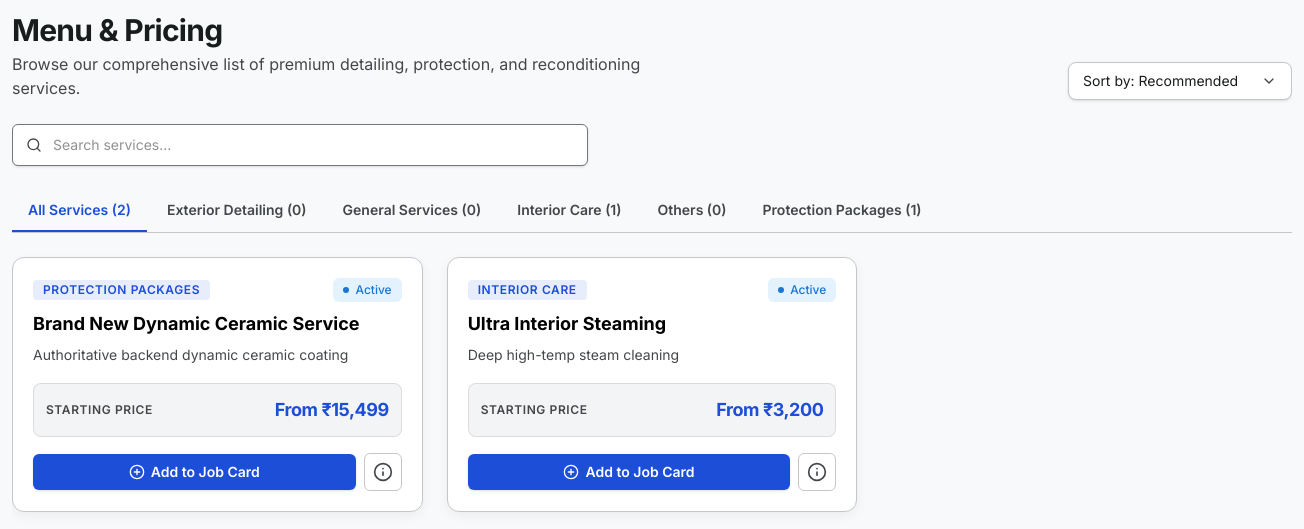
it: CataloguePage Dynamic Service & Category Tests (Step 6 Verification) › 4. Backend service category is respected and filters appropriately
This screenshot has width=1304, height=529.
Expected: the heading "Brand New Dynamic Ceramic Service" is shown, [33,310,402,338]
Expected: the heading "Ultra Interior Steaming" is shown, [468,313,666,334]
Filter by 'Interior Care'
Click the button "Interior Care (1)" at (569, 211), box [501,190,638,232]
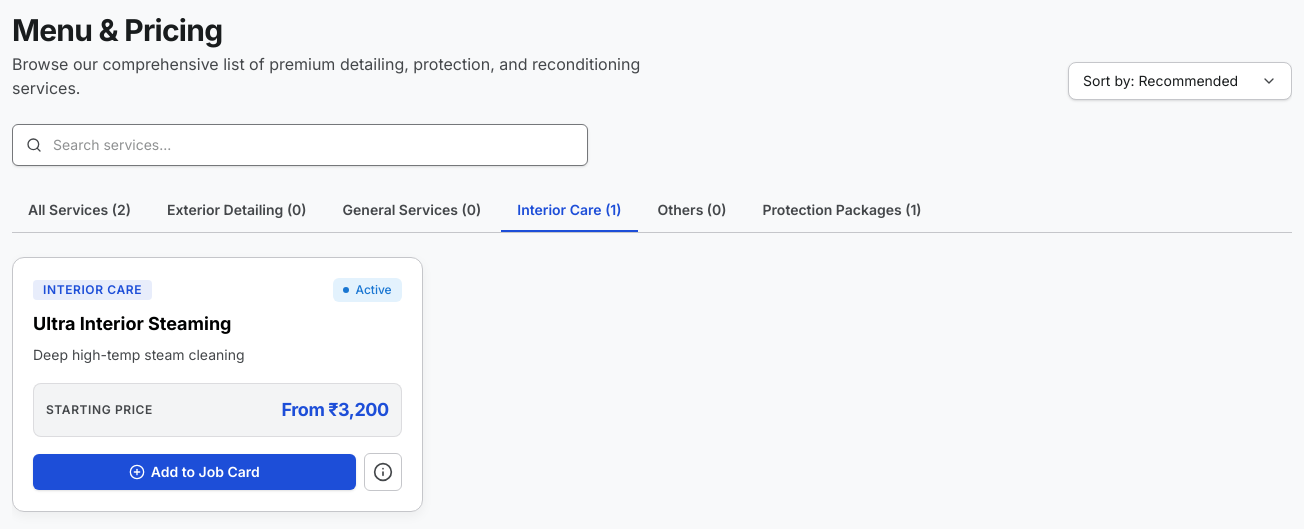
Expected: the heading "Ultra Interior Steaming" is shown, [33,313,232,334]
Now the heading "Brand New Dynamic Ceramic Service" is gone
